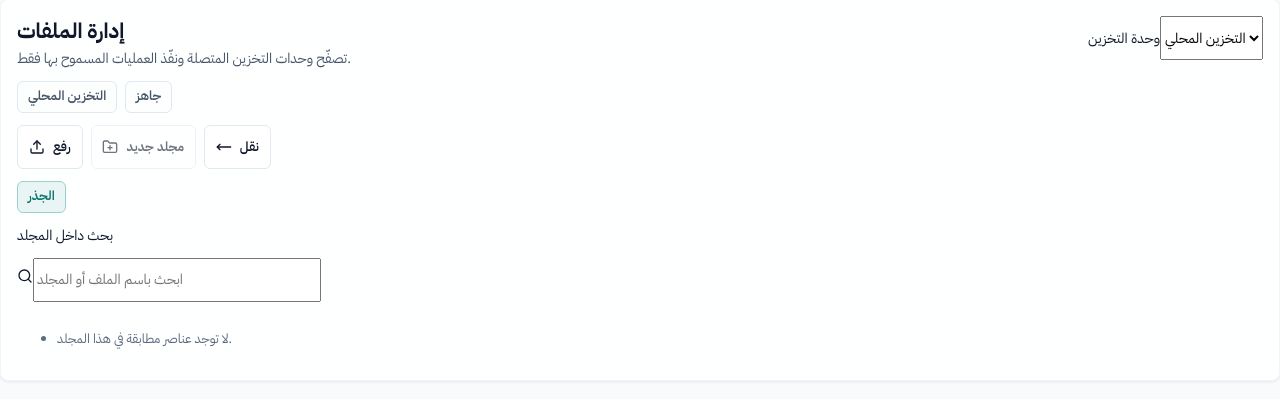
StorageBrowser › changes the selected provider and gates unsupported actions
Check: the button "نقل" is enabled, box x1=204 y1=124 x2=271 y2=168
Select "Dropbox" in the dropdown labelled "وحدة التخزين": (1212, 38) x1=1160 y1=16 x2=1263 y2=60
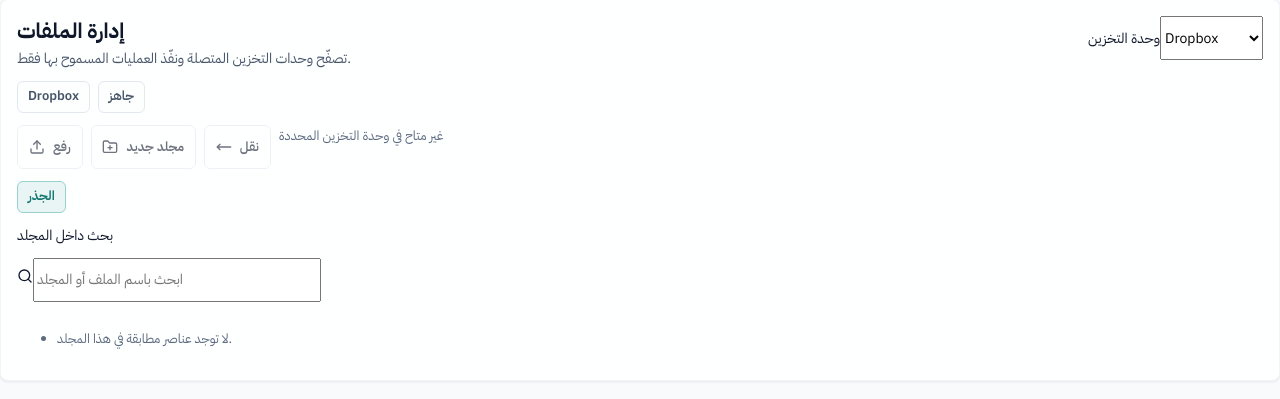
Check: the button "نقل" is disabled, box x1=204 y1=124 x2=271 y2=168
Check: the text "غير متاح في وحدة التخزين المحددة" is shown, box x1=279 y1=126 x2=443 y2=144
